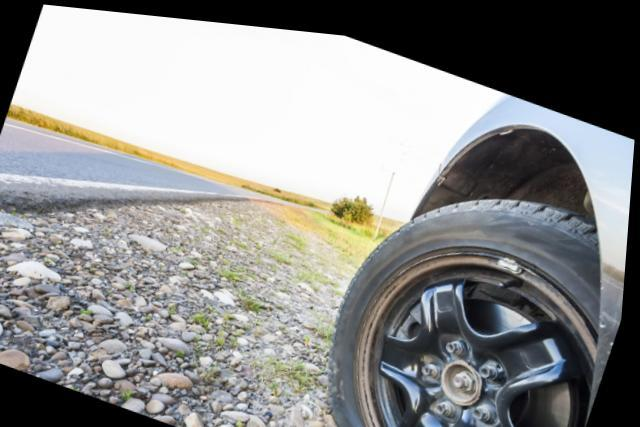tire flat: (335, 185, 604, 427)
